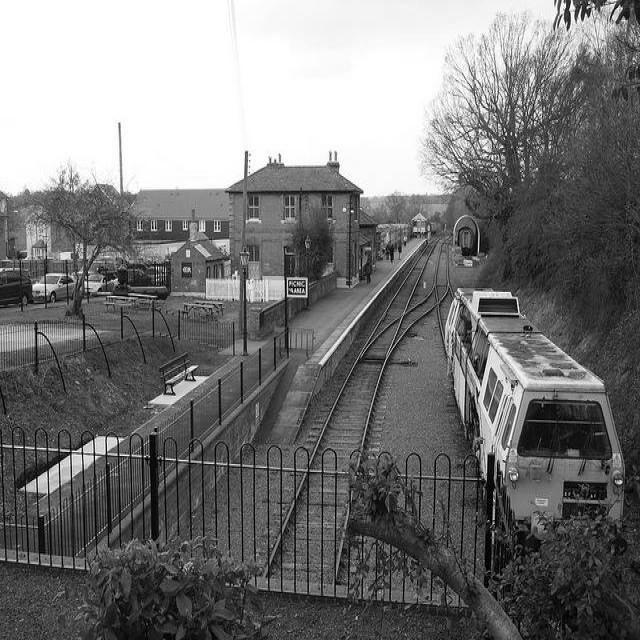vehicle: (32, 273, 76, 303), (0, 269, 32, 305), (88, 262, 117, 282), (88, 275, 114, 293), (146, 256, 166, 268), (22, 256, 40, 260)
